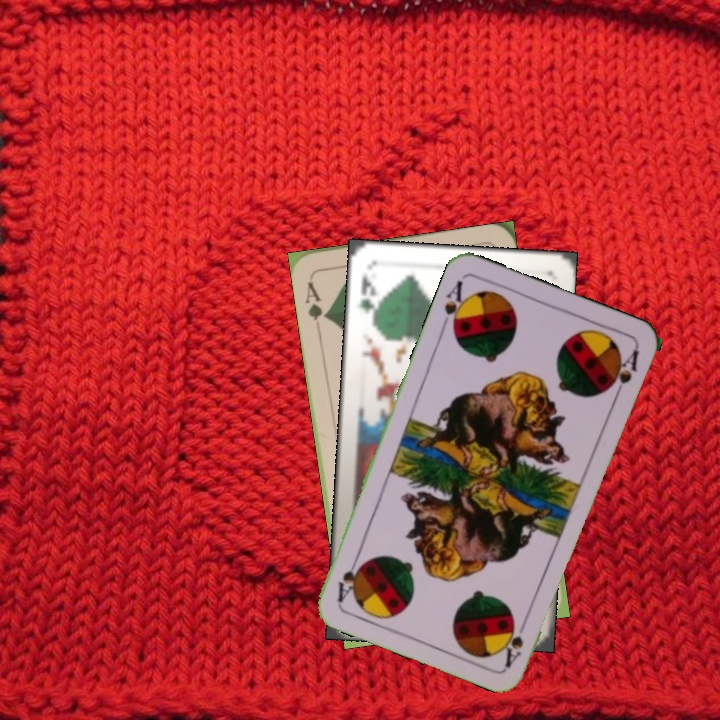GA: (301, 277, 331, 324)
GK: (354, 271, 380, 325)
SA: (436, 276, 471, 336), (500, 612, 530, 670)
